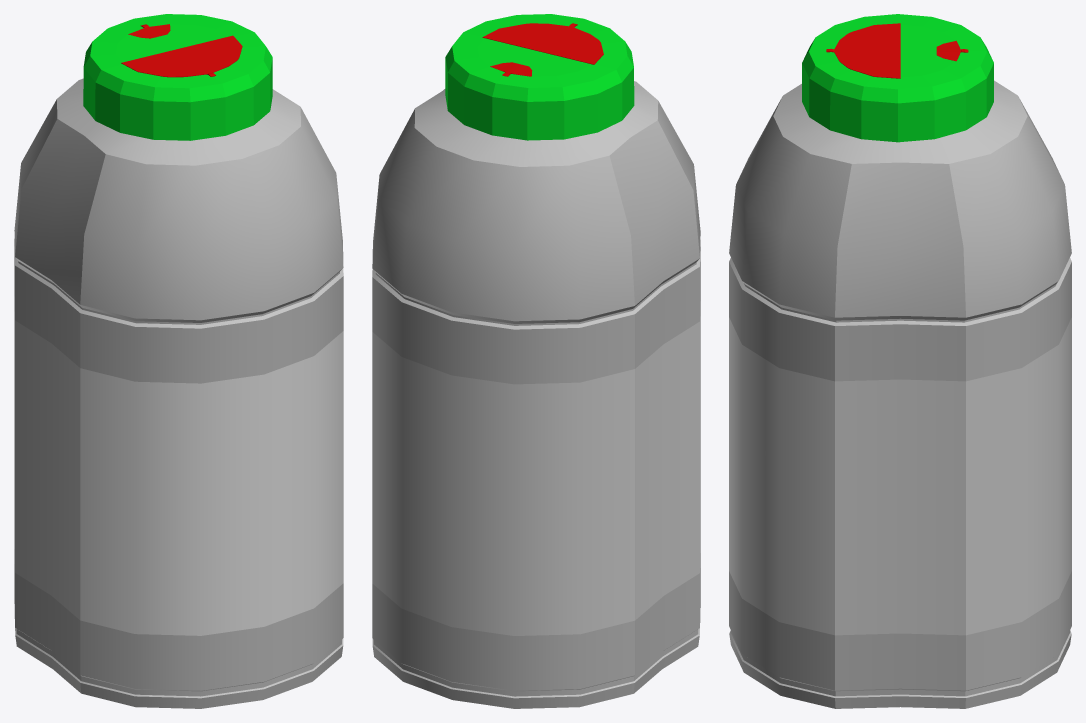
Rendered from MC_SpiceBottle.fbx.
3 renders of one model, left to right at view 1: azimuth 30°, elevation 25°; view 2: azimuth 150°, elevation 25°; view 3: azimuth 270°, elevation 25°, orthographic.
Parts seen in each view (by area): view 1: SpiceBottle, BigLid; view 2: SpiceBottle, BigLid; view 3: SpiceBottle, BigLid.
Part boxes in pixels (<box>): SpiceBottle: <box>14,14,343,708</box>; BigLid: <box>121,35,242,77</box>; SpiceBottle: <box>372,14,700,708</box>; BigLid: <box>482,23,603,64</box>; SpiceBottle: <box>729,14,1071,708</box>; BigLid: <box>826,23,900,78</box>.
Size of the model in its own units: 36.01 by 77.3 by 40.44.
